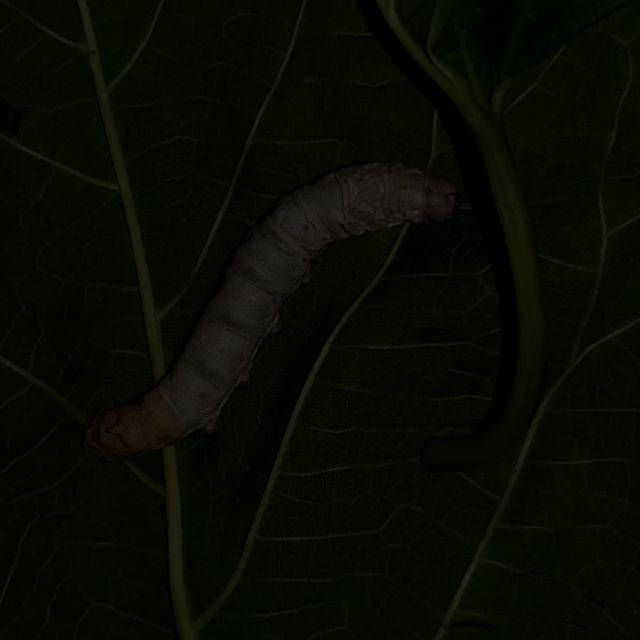Grasserie: (48, 118, 468, 516)
